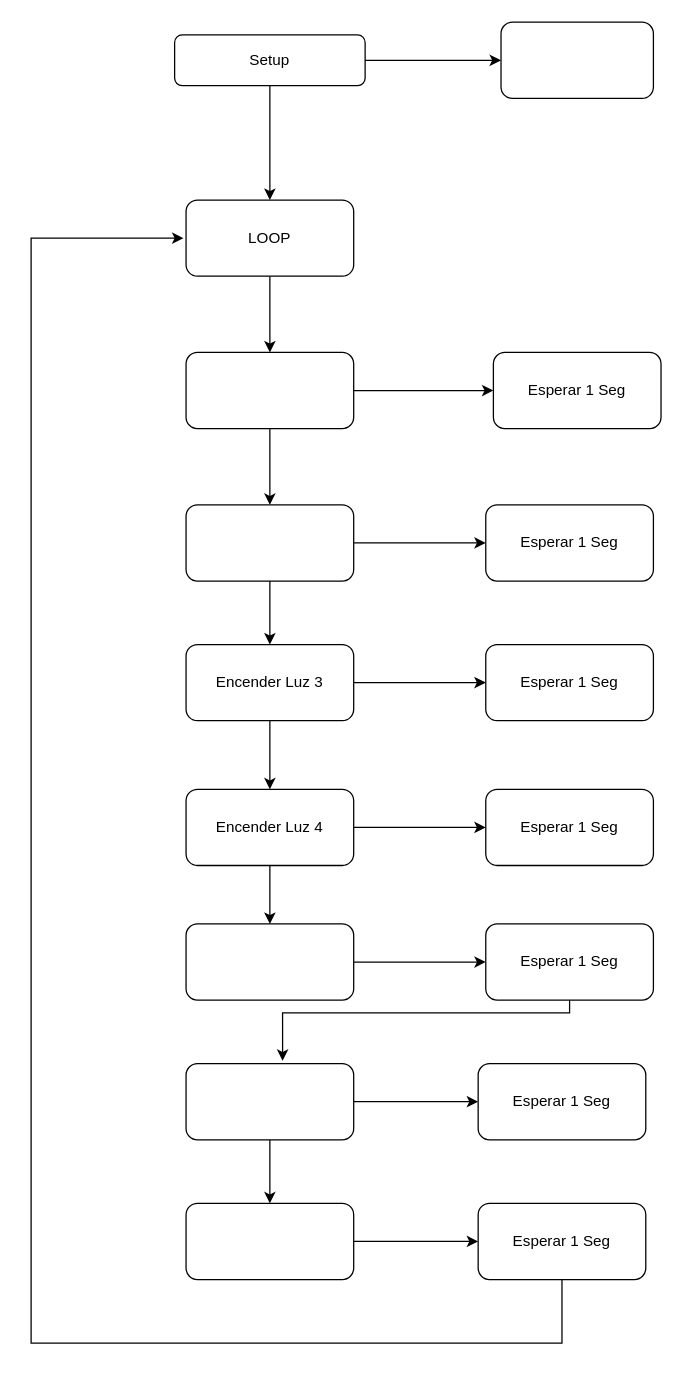
Image size: 683x1375. Some labels were removed from this diagram. Here are the shapes that lost their labels. From the top down, the centre of each, then its label:
At (576,59): "Definir 5 Pines".
At (269,390): "Encender Luz 1".
At (269,542): "Encender Luz 2".
At (269,961): "Encender Luz 5".
At (269,1101): "Apagar Pin 5".
At (269,1241): "Apagar Pin N".
